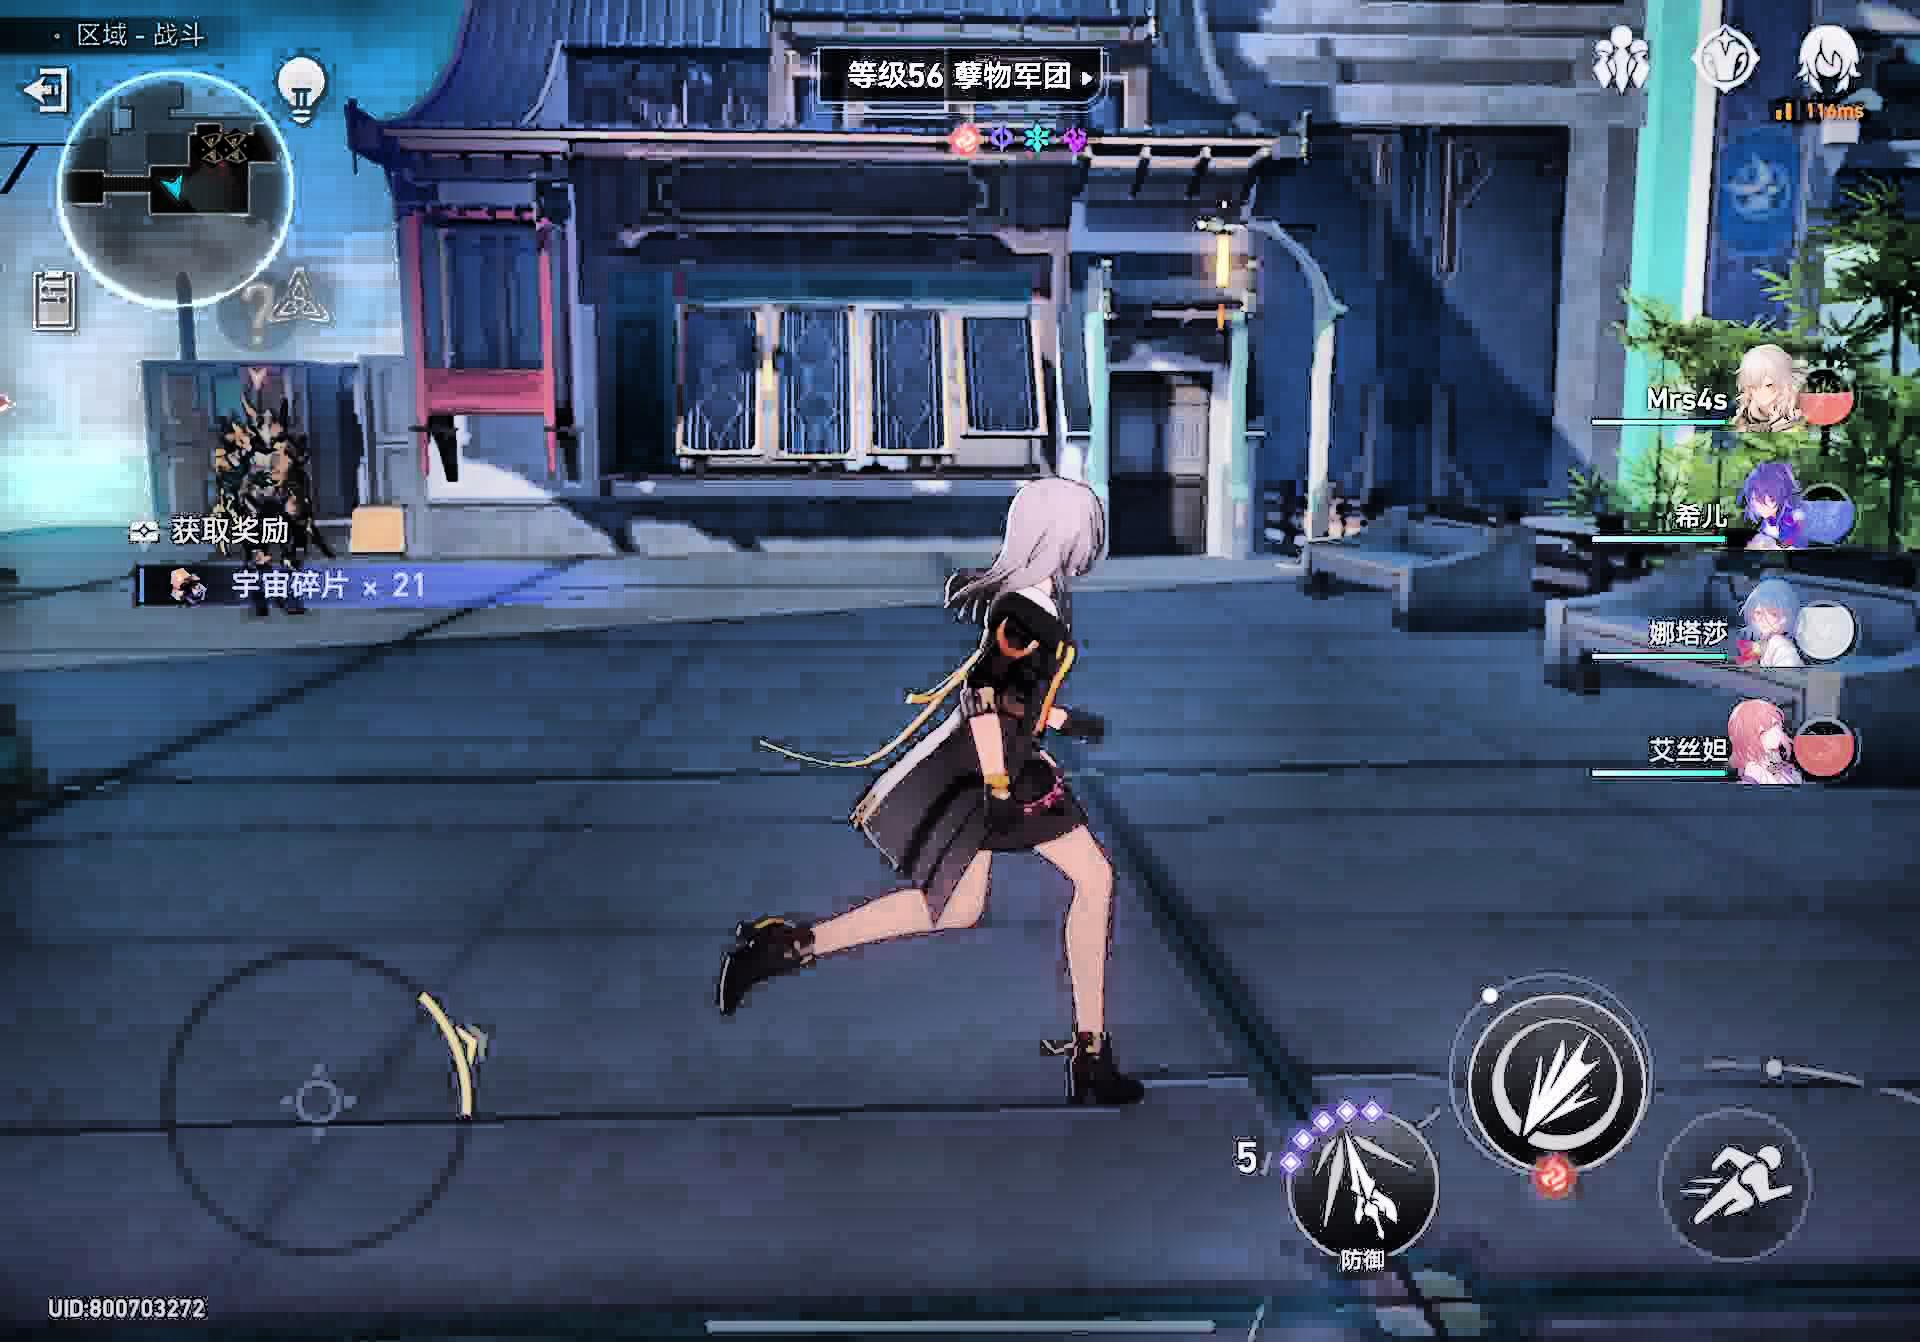Enemy: (212, 398, 305, 623)
Self: (728, 470, 1174, 1112)
